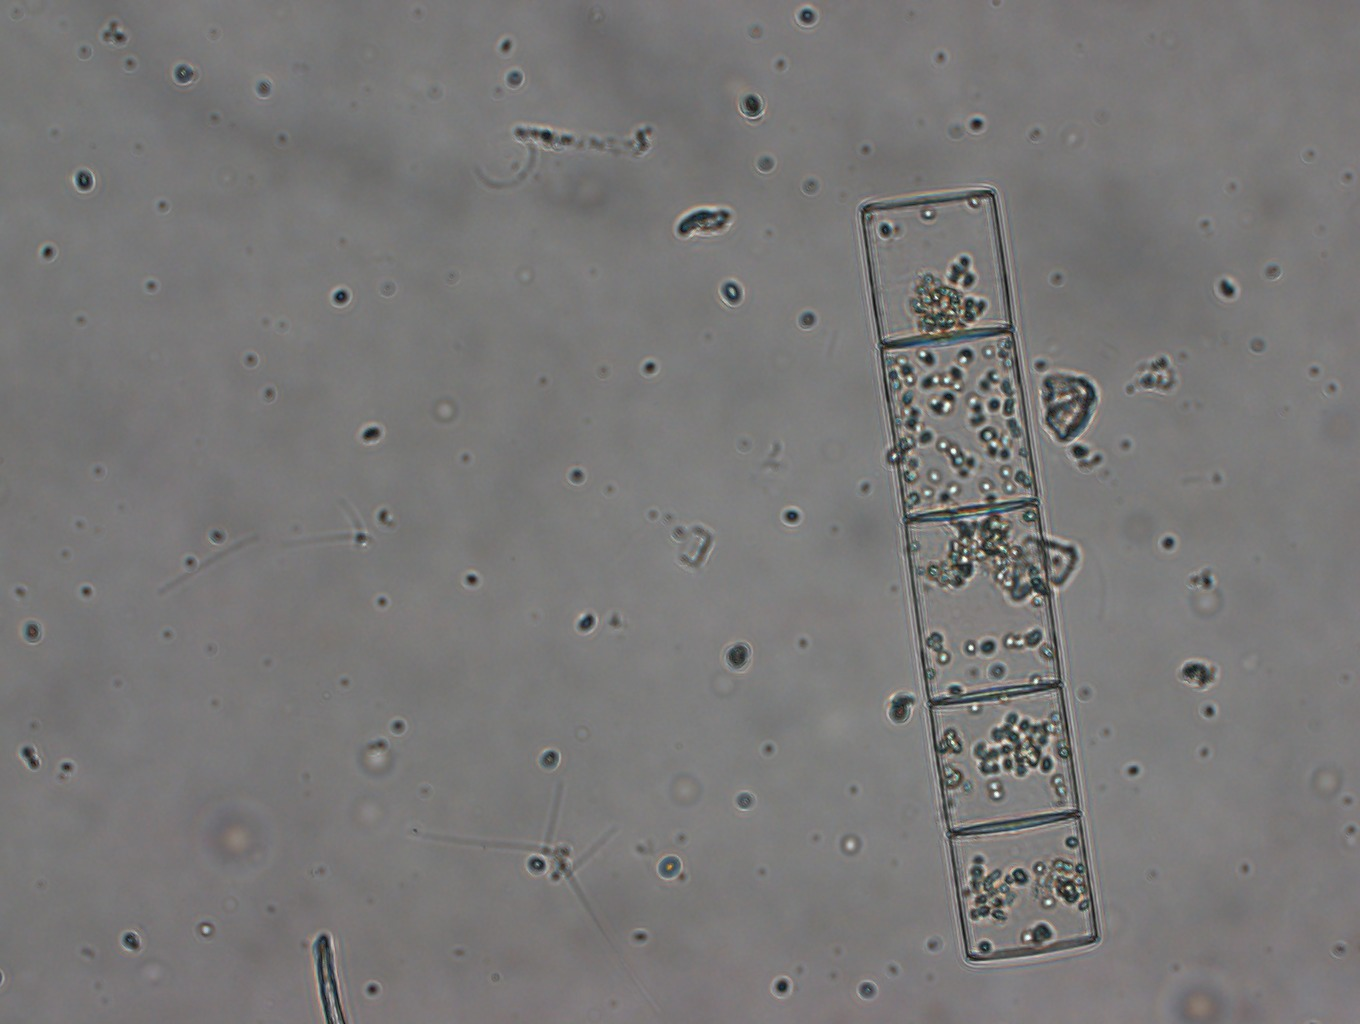guinardia flaccida: (858, 187, 1101, 959)
